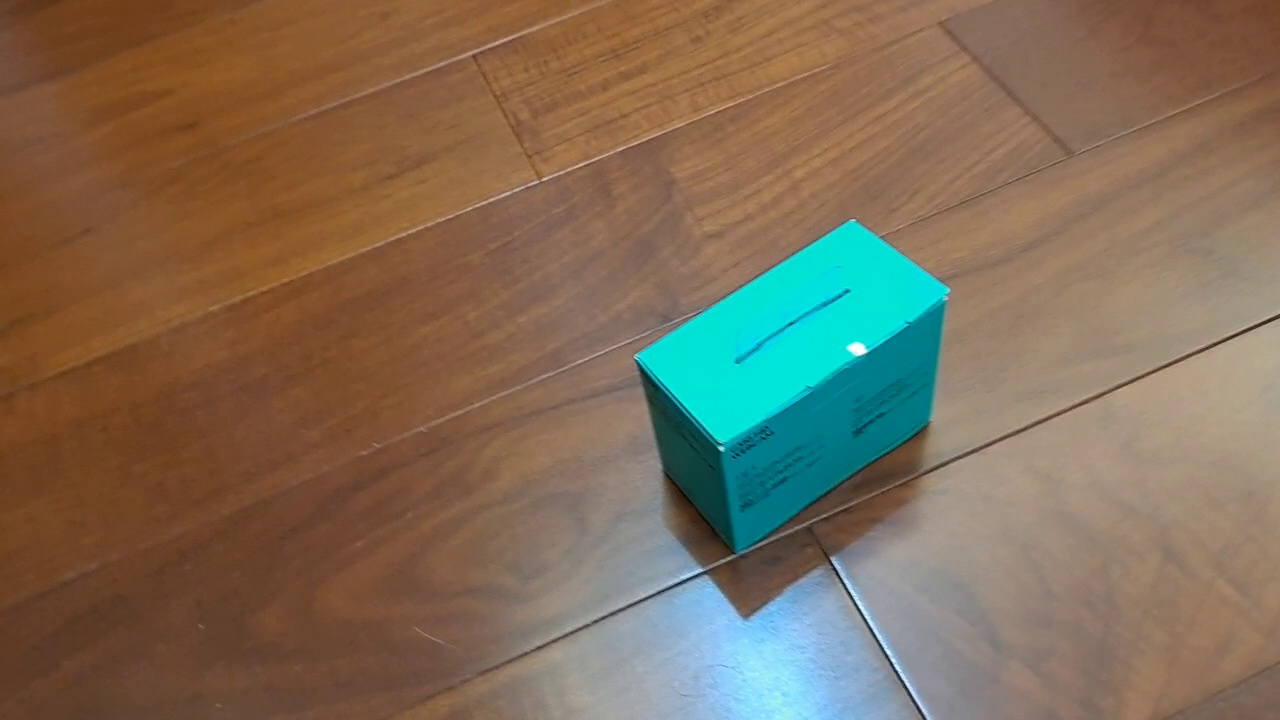webcam: (631, 216, 952, 557)
